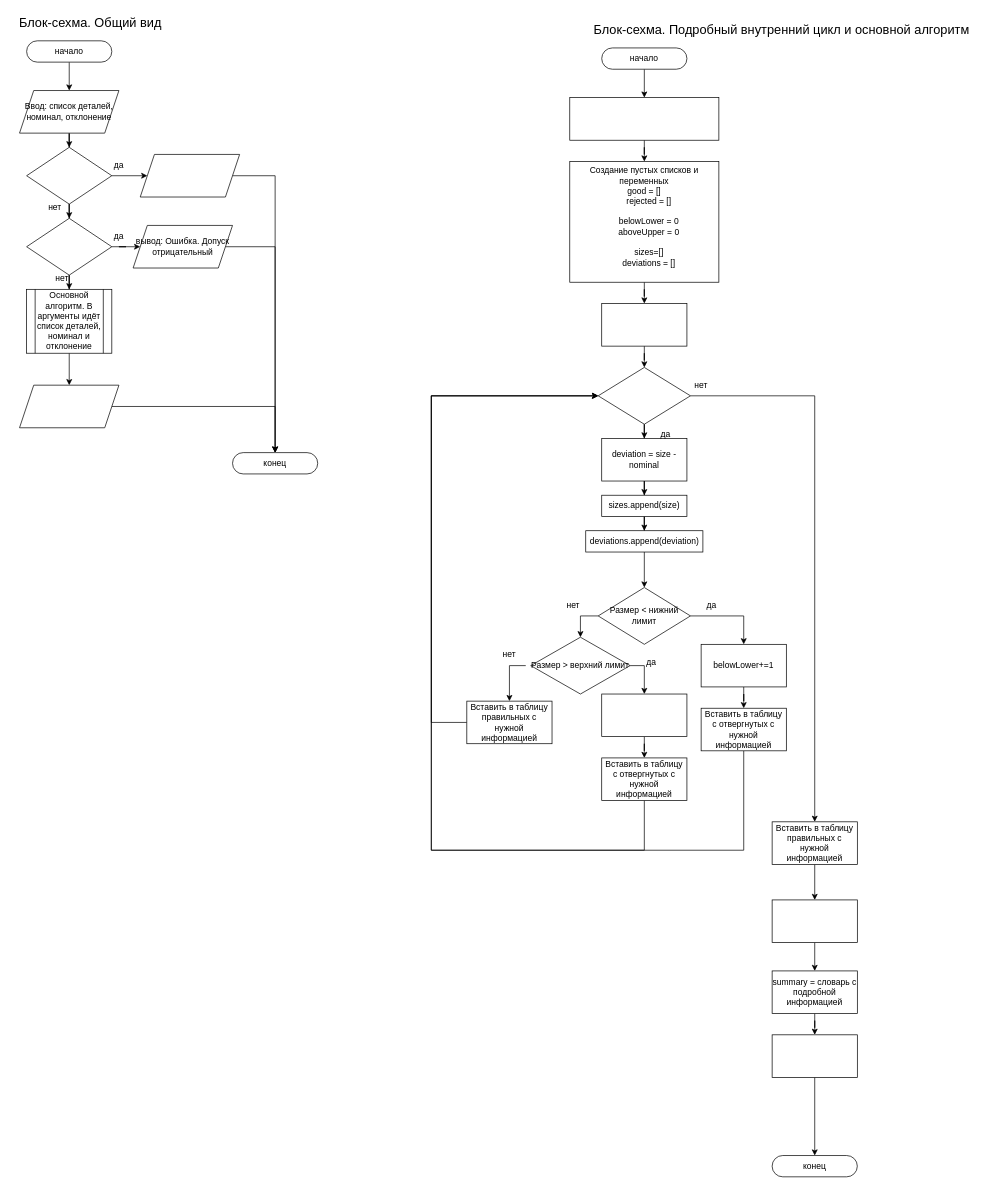
Image size: 983x1189. Some labels were removed from this diagram. The box of each missing label's shape, as (x1, y1, x2, y2) in pixels:
aboveUpper +=1: (601, 693, 687, 737)
total = len(details): (771, 899, 857, 943)
Возврат summary и таблиц отвергнутых и принятых деталей: (771, 1034, 857, 1077)
вывод: Ошибка. деталей больше 100: (140, 154, 240, 197)
вывод: сводка данных: (19, 384, 119, 428)
деталей больше 100?: (26, 147, 112, 204)
допуск отрицательный?: (26, 218, 112, 275)
Есть ещё деталь?: (597, 367, 690, 424)
Подсчёт границ. LowerLimit = nominal - tolerance UpperLimit = nominal +tolerance: (569, 97, 719, 140)
Цикл который проходится по всем деталям: (601, 303, 687, 346)
